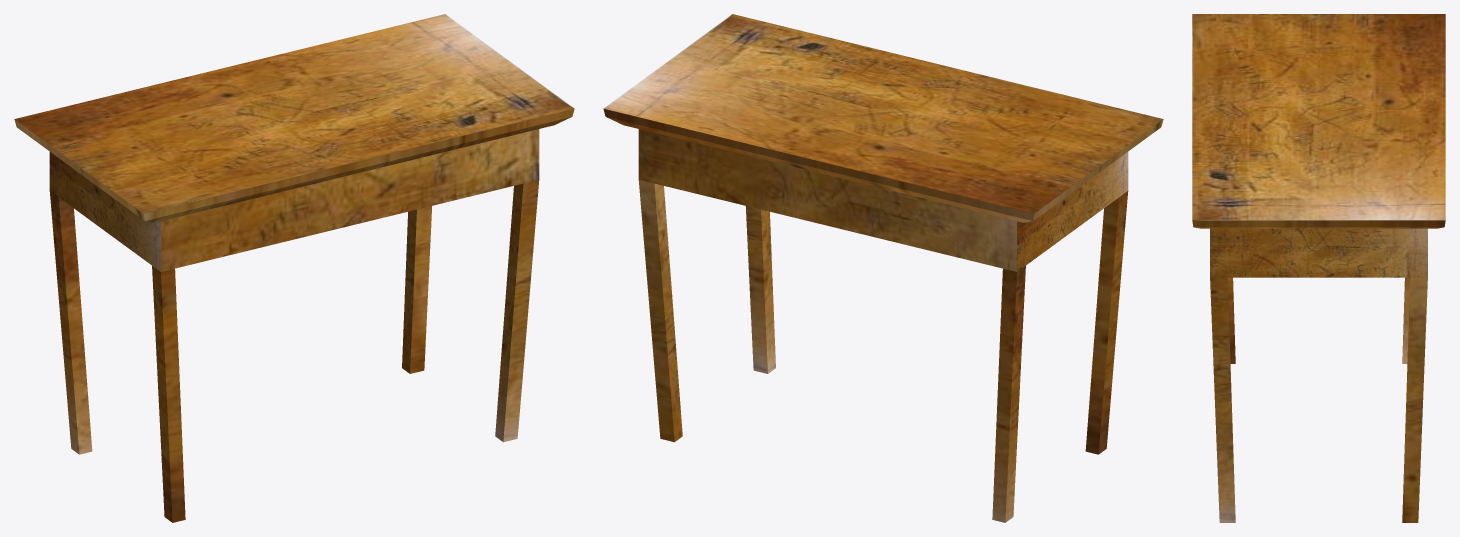
Rendered from aquarium_table.FBX.
3 views of the same model, side by side, from view 1: azimuth 30°, elevation 25°; view 2: azimuth 150°, elevation 25°; view 3: azimuth 270°, elevation 25° (orthographic). The views are drawn at different scales.
Parts seen in each view (by area): view 1: living_room_table; view 2: living_room_table; view 3: living_room_table.
Part boxes in pixels (bbox=[...]): living_room_table: bbox=[14, 14, 574, 522]; living_room_table: bbox=[603, 14, 1163, 522]; living_room_table: bbox=[1192, 14, 1445, 522].
Bounding box in the file's own units: 61.28 × 44.82 × 31.83.
